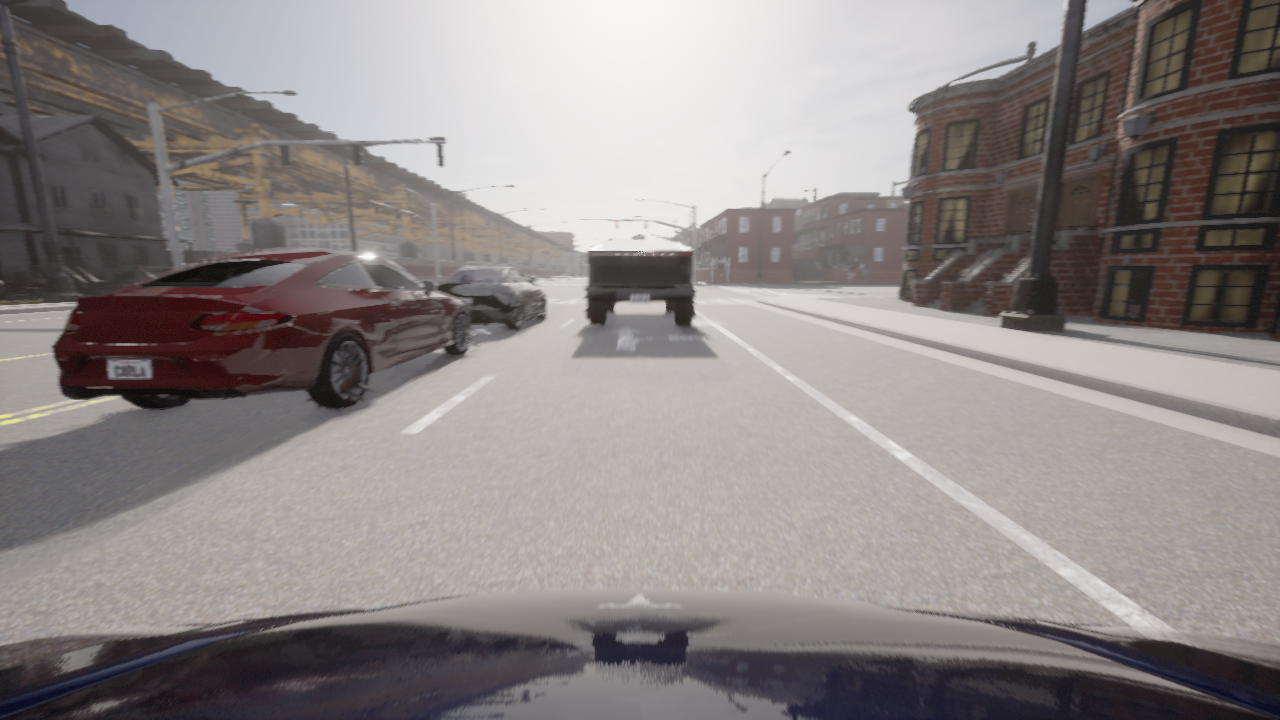cyclist: (0, 588, 1279, 719), (52, 249, 478, 408), (583, 239, 697, 326), (435, 266, 548, 330)
